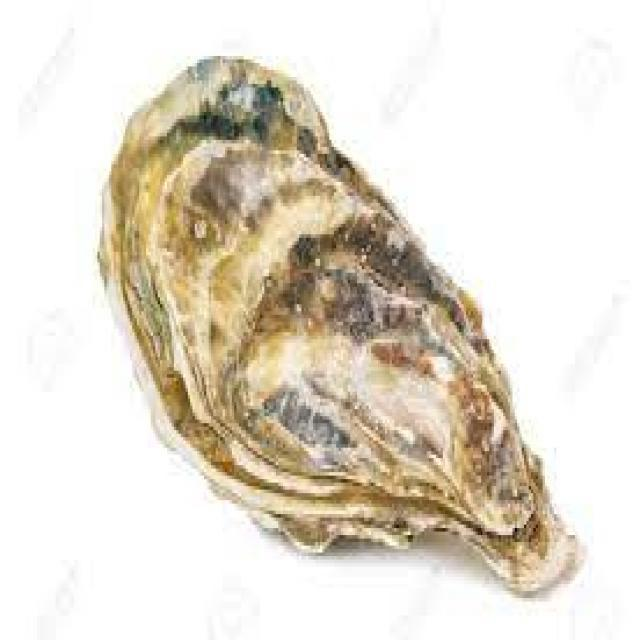Oyster-Closed: (96, 55, 583, 596)
